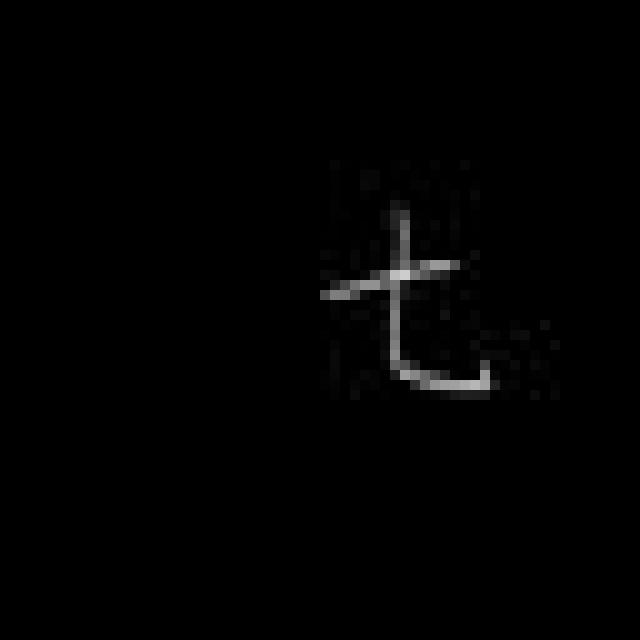7 -seven-: (314, 208, 496, 407)
